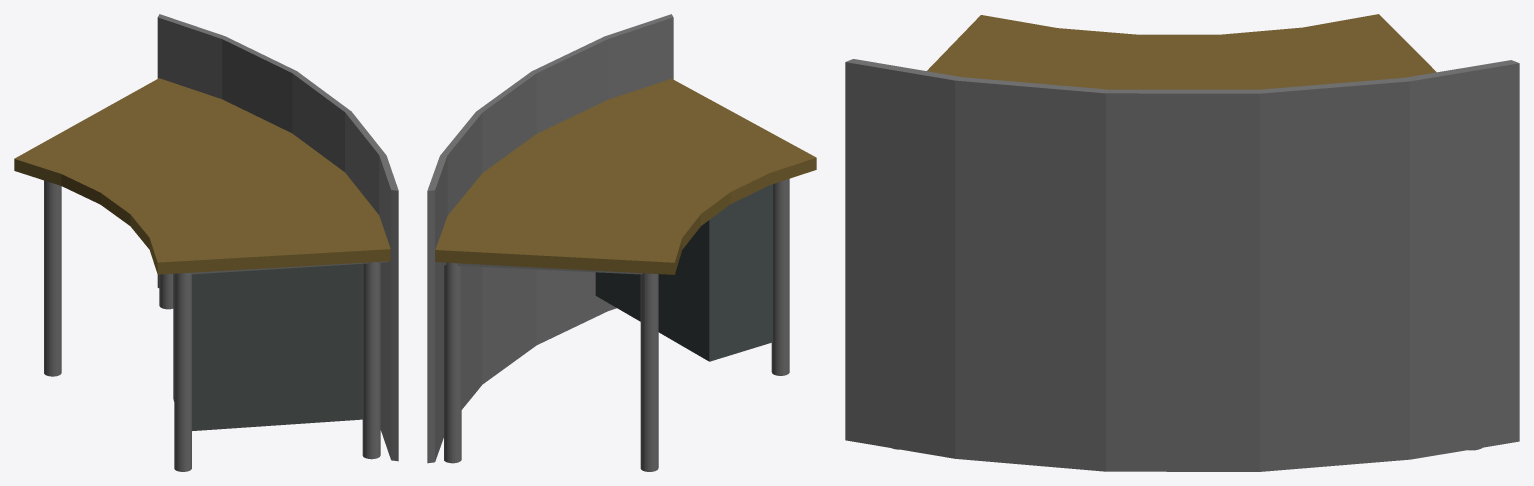
Rendered from Meja_Dosen_CreativeRegularClass.glb.
The picture shows the model from 3 angles, left to right: view 1: azimuth 30°, elevation 25°; view 2: azimuth 150°, elevation 25°; view 3: azimuth 270°, elevation 25°; orthographic projection. The views are drawn at different scales.
Parts seen in each view (by area): view 1: Permukaan, Lemari, Plat depan, Kanan dpn, Kanan blkg, Kiri blkg, Kiri dpn; view 2: Permukaan, Plat depan, Lemari, Kiri blkg, Kiri dpn, Kanan blkg, Frame; view 3: Plat depan, Permukaan.
Boxes of the visible parts, left/top/right/bottom form: Permukaan: left=14, top=78, right=390, bottom=274; Lemari: left=173, top=263, right=362, bottom=430; Plat depan: left=157, top=14, right=398, bottom=461; Kanan dpn: left=362, top=262, right=380, bottom=459; Kanan blkg: left=174, top=272, right=191, bottom=471; Kiri blkg: left=44, top=180, right=61, bottom=376; Kiri dpn: left=159, top=274, right=173, bottom=309; Permukaan: left=435, top=78, right=816, bottom=274; Plat depan: left=427, top=14, right=673, bottom=463; Lemari: left=595, top=184, right=772, bottom=361; Kiri blkg: left=640, top=273, right=658, bottom=471; Kiri dpn: left=444, top=262, right=461, bottom=463; Kanan blkg: left=771, top=179, right=789, bottom=375; Frame: left=438, top=262, right=655, bottom=274; Plat depan: left=845, top=59, right=1519, bottom=471; Permukaan: left=927, top=14, right=1436, bottom=89.
Bounding box in the file's own units: 7.09 × 7.82 × 12.33.
